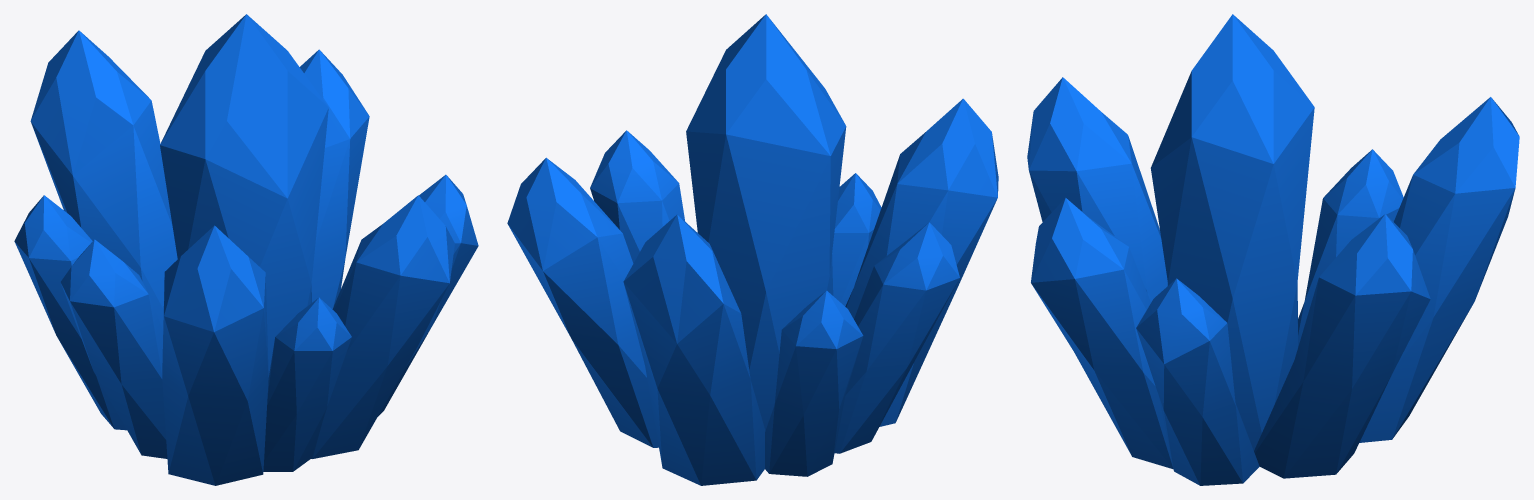
The model's file is nat_crystal_cluster_4.glb.
3 renders of one model, left to right at view 1: azimuth 30°, elevation 25°; view 2: azimuth 150°, elevation 25°; view 3: azimuth 270°, elevation 25°, orthographic. The views are drawn at different scales.
Visible parts, largest first — view 1: nat_crystal_cluster_4; view 2: nat_crystal_cluster_4; view 3: nat_crystal_cluster_4.
Boxes of the visible parts, <box> form: nat_crystal_cluster_4: <box>14,14,478,485</box>; nat_crystal_cluster_4: <box>507,14,998,485</box>; nat_crystal_cluster_4: <box>1027,14,1519,485</box>.
Size of the model in its own units: 2.34 by 2.4 by 2.59.
